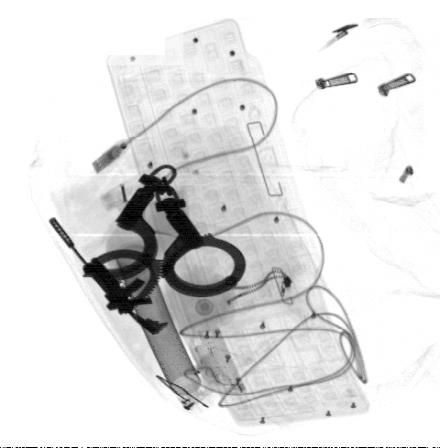Gun: (48, 213, 174, 339)
HandCuffs: (81, 161, 247, 306)
